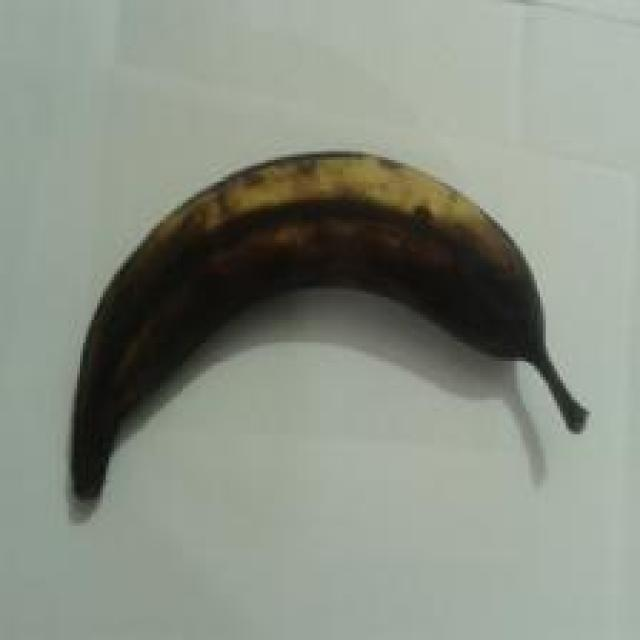Rotten_Banana: (54, 198, 589, 468)
